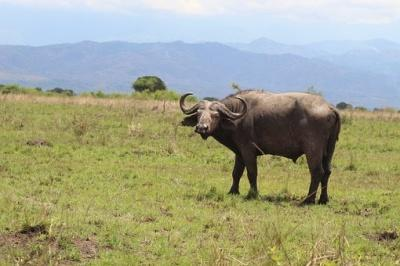buffalo: (180, 90, 343, 205)
